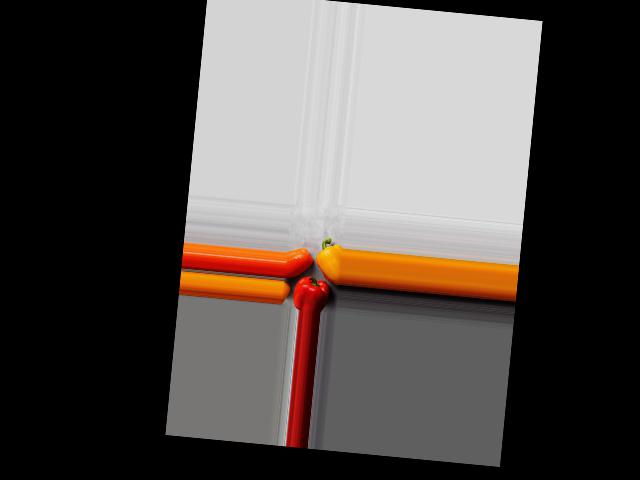bell_pepper: (291, 274, 332, 312)
